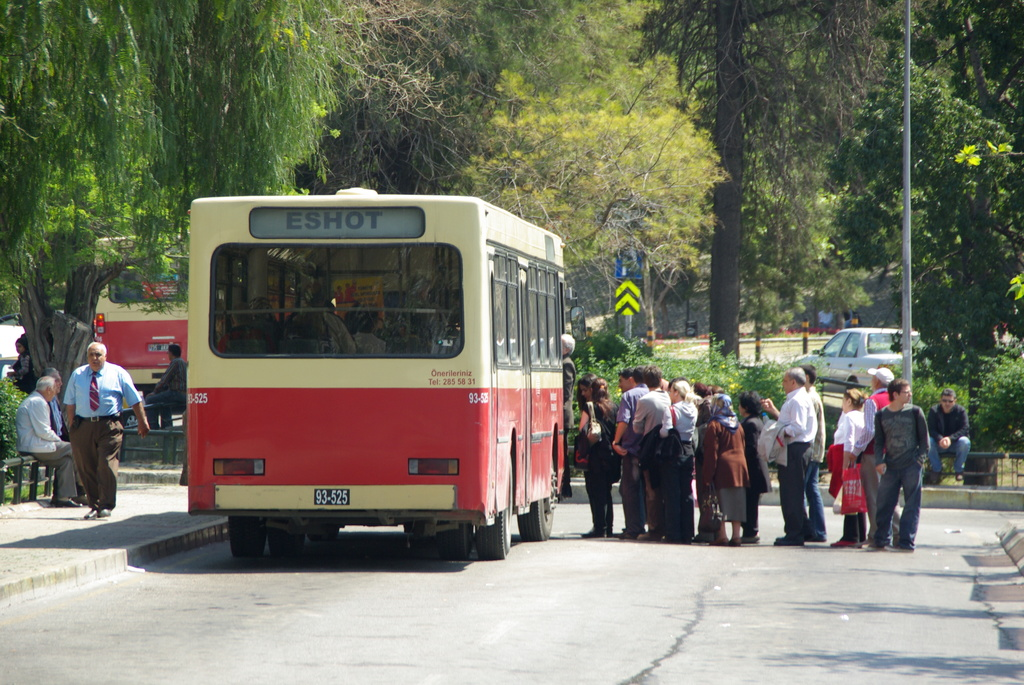Car: (792, 321, 937, 403)
